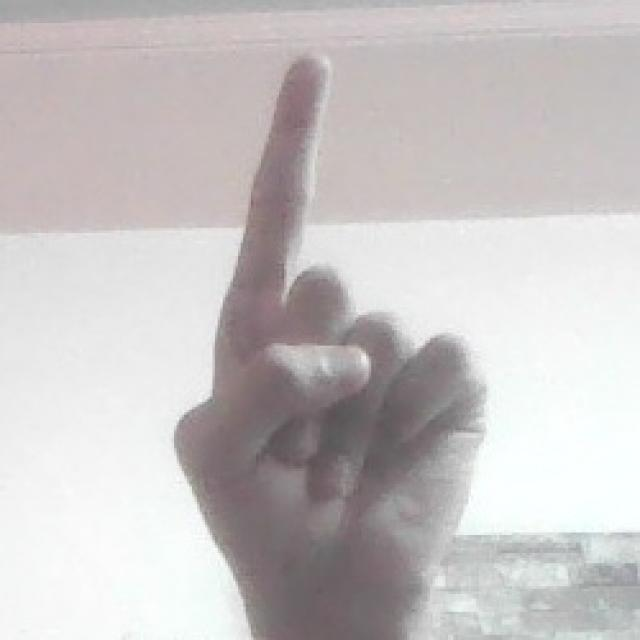Numeric-1: (173, 50, 486, 629)
